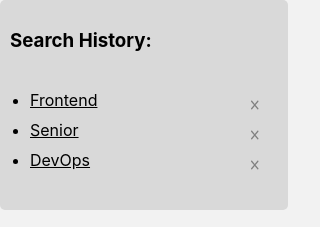
Test: Sidebar Component › removes a search item when the close icon is clicked
# Click the close icon of the first item
Click the picture with test id "clearQuery" next to "Frontend" at (254, 105), box [250, 100, 258, 110]
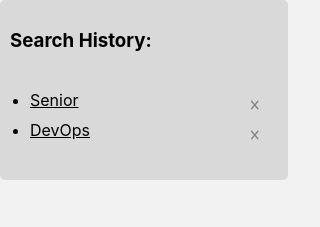
Expected: the list item "Frontend" is gone
Expected: the list item "Senior" is shown, [30, 90, 78, 110]
